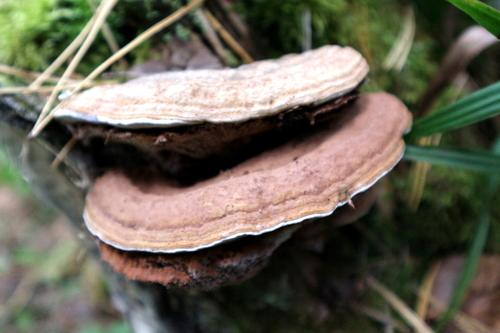Ganoderma - Fruit Body: (84, 147, 397, 287), (49, 44, 367, 143)
